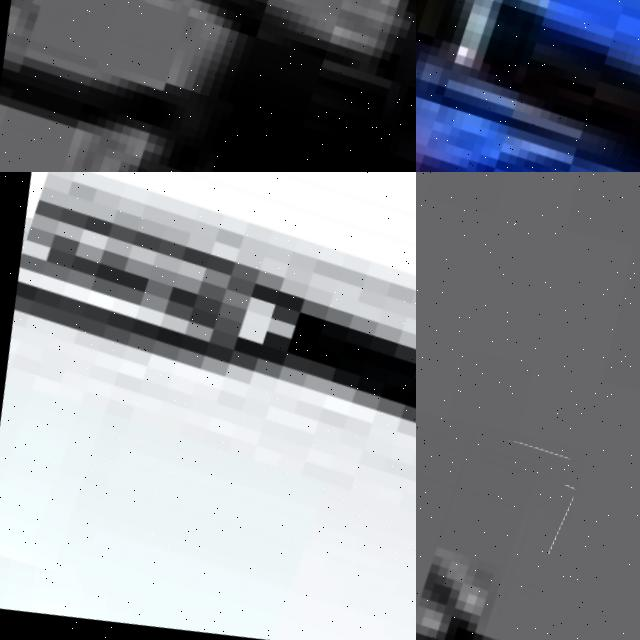drone: (0, 172, 416, 640), (0, 0, 416, 172), (416, 0, 640, 172), (416, 401, 570, 640)
